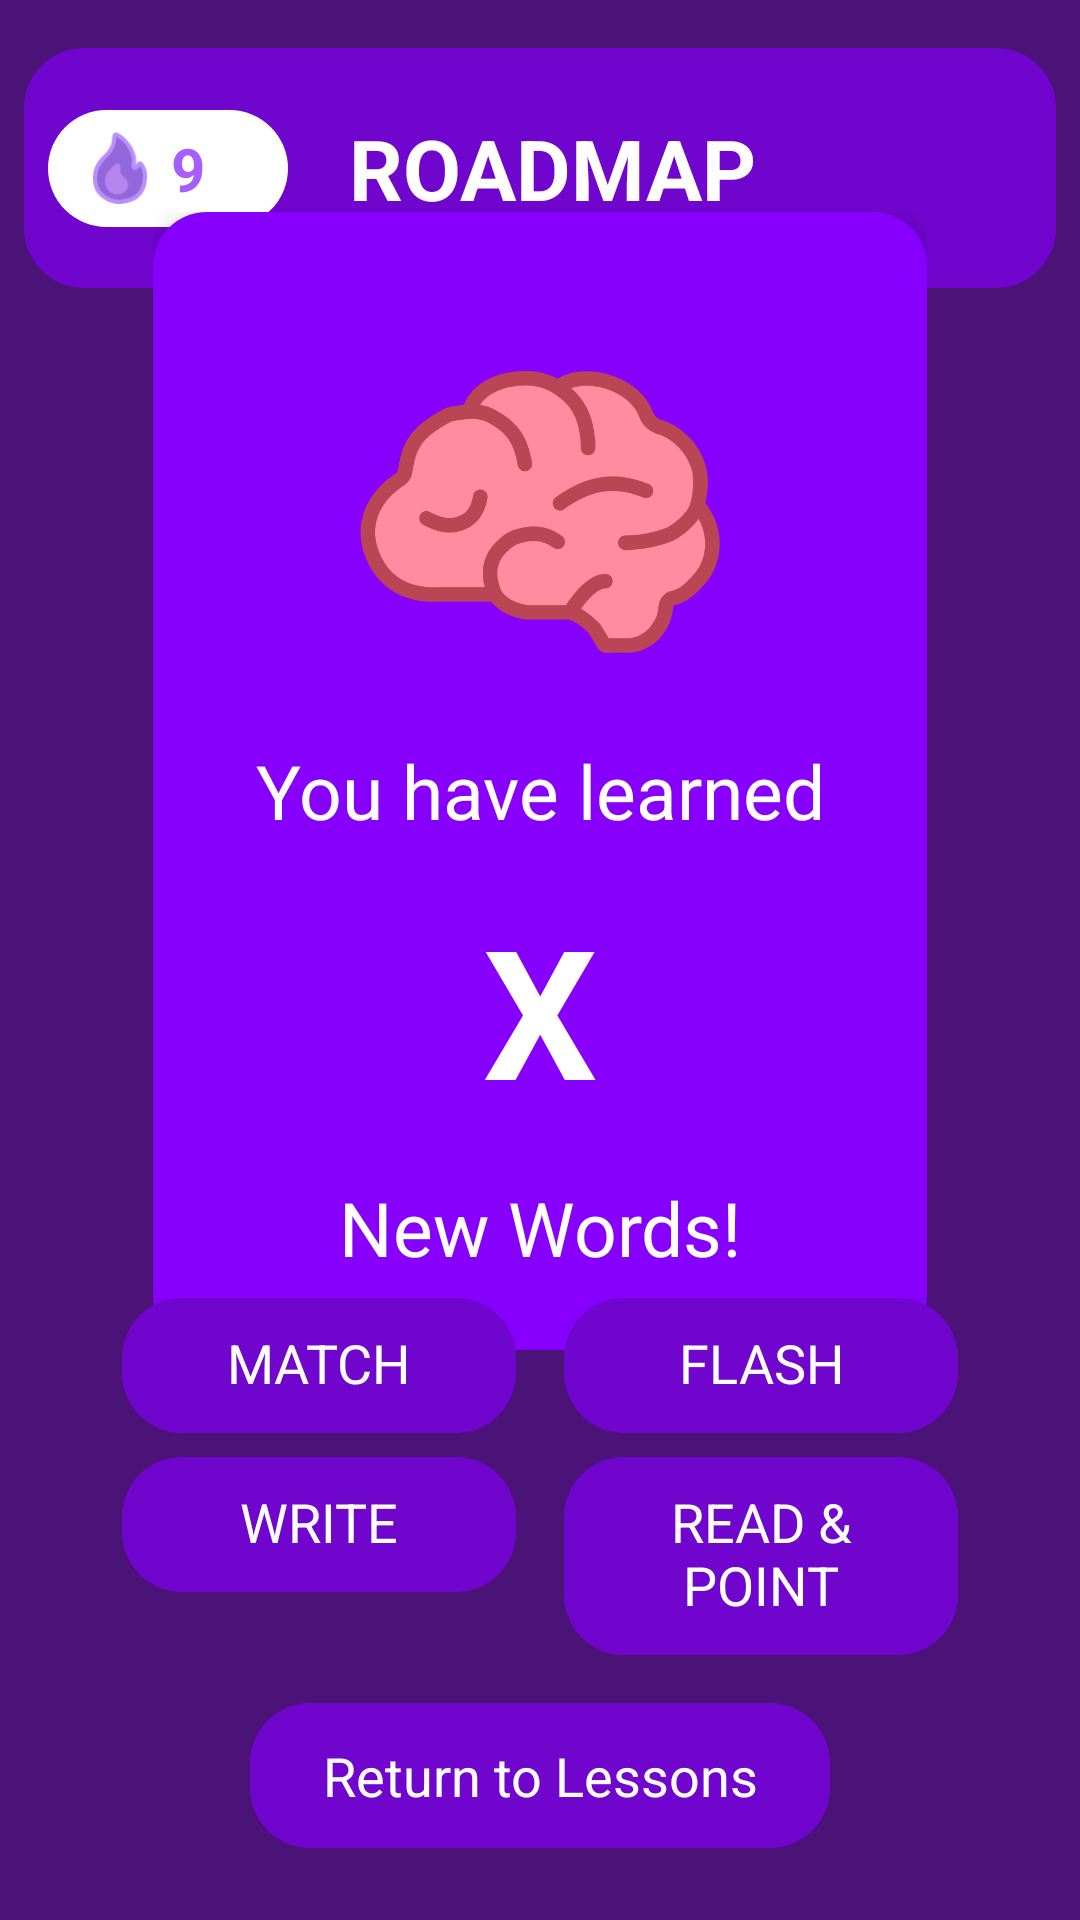

Where to tap for icons on this 1080 x 1920 app screen, as [x,y]:
rmap streak: [120,168]
